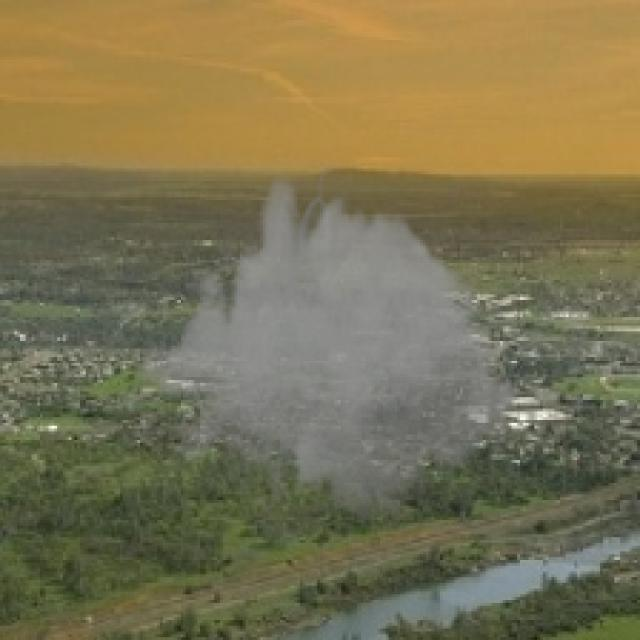Smoke: (135, 160, 520, 554)
